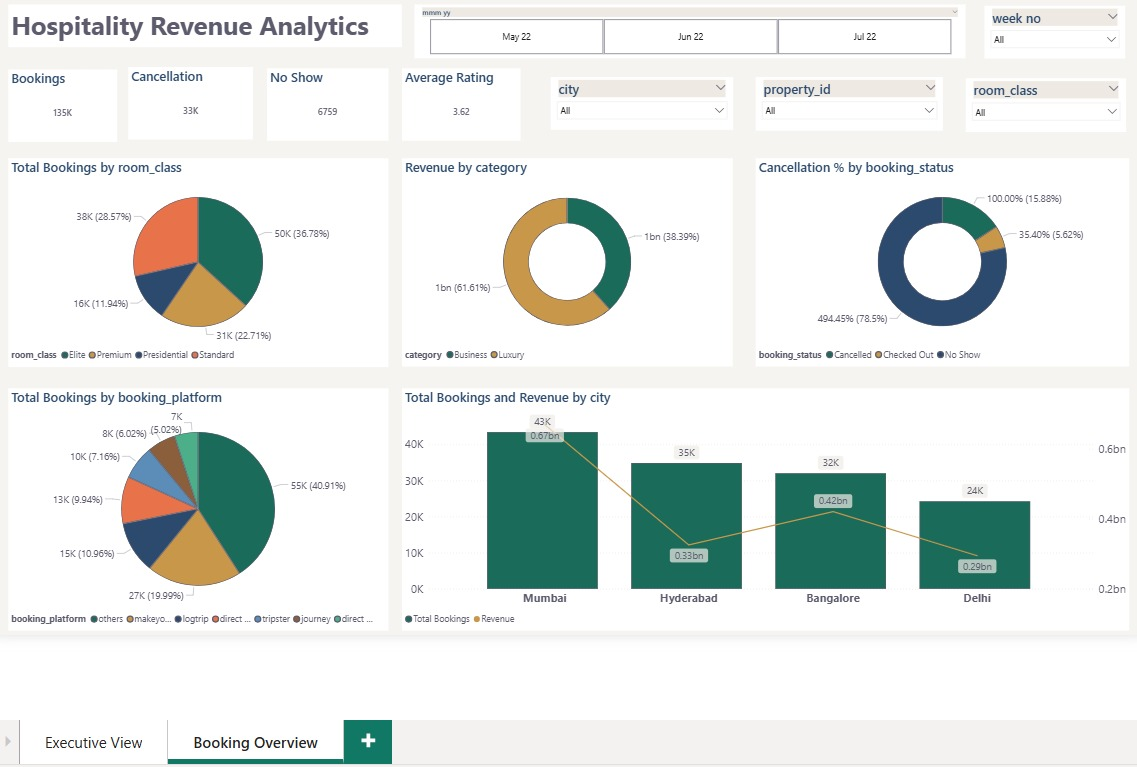

The page's visual inventory and layout, read from the dashboard file:
{"tool":"powerbi","page":{"name":"Booking Overview","canvas":[1920,1080],"ordinal":1},"visuals":[{"type":"card","title":"Bookings","fields":{"Values":["key_measures.Total Bookings"]},"box":[26.5,136.7,181.6,120.4],"z":0},{"type":"card","title":"Average Rating","fields":{"Values":["key_measures.Average Rating"]},"box":[683.7,134.7,198,120.4],"z":1000},{"type":"card","title":"No Show","fields":{"Values":["key_measures.Total no show bookings"]},"box":[459.2,134.7,202,120.4],"z":2000},{"type":"card","title":"Cancellation","fields":{"Values":["key_measures.Total cancelled bookings"]},"box":[226.5,132.7,208.2,120.4],"z":3000},{"type":"slicer","fields":{"Values":["dim_date.mmm yy"]},"box":[704.2,29.2,918.8,89.6],"z":4000},{"type":"slicer","fields":{"Values":["dim_date.week no"]},"box":[1655.1,30.6,234.7,87.8],"z":5000},{"type":"slicer","fields":{"Values":["dim_hotels.city"]},"box":[930.6,151,304.1,87.8],"z":6000},{"type":"slicer","fields":{"Values":["dim_hotels.property_id"]},"box":[1273.5,151,312.2,89.8],"z":7000},{"type":"slicer","fields":{"Values":["dim_rooms.room_class"]},"box":[1622.4,153.1,267.3,89.8],"z":8000},{"type":"pieChart","fields":{"Series":["dim_rooms.room_class"],"Y":["key_measures.Total Bookings"]},"box":[26.5,285.7,606.1,346.9],"z":9000},{"type":"pieChart","fields":{"Y":["key_measures.Total Bookings"],"Category":["fact_bookings.booking_platform"]},"box":[26.5,669.4,606.1,404.1],"z":10000},{"type":"donutChart","fields":{"Series":["dim_hotels.category"],"Y":["key_measures.Revenue"]},"box":[683.7,285.7,551,346.9],"z":11000},{"type":"donutChart","fields":{"Series":["fact_bookings.booking_status"],"Y":["key_measures.Cancellation %"]},"box":[1273.5,285.7,622.4,346.9],"z":12000},{"type":"lineStackedColumnComboChart","fields":{"Y":["key_measures.Total Bookings"],"Category":["dim_hotels.city"],"Y2":["key_measures.Revenue"]},"box":[683.7,669.4,1212.2,404.1],"z":13000},{"type":"textbox","box":[27.1,29.2,656.2,70.8],"z":14000}]}

Visuals, with their boxes on the page's 1920x1080 design canvas (x1, y1, x2, y2). These are canvas units, not pixel positions in the 1137x767 screenshot, which may show the page scaled, cropped or inside an application window:
"Bookings" card: BBox(26, 137, 208, 257)
"Average Rating" card: BBox(684, 135, 882, 255)
"No Show" card: BBox(459, 135, 661, 255)
"Cancellation" card: BBox(226, 133, 435, 253)
slicer - dim_date.mmm yy: BBox(704, 29, 1623, 119)
slicer - dim_date.week no: BBox(1655, 31, 1890, 118)
slicer - dim_hotels.city: BBox(931, 151, 1235, 239)
slicer - dim_hotels.property_id: BBox(1274, 151, 1586, 241)
slicer - dim_rooms.room_class: BBox(1622, 153, 1890, 243)
pieChart - dim_rooms.room_class x key_measures.Total Bookings: BBox(26, 286, 633, 633)
pieChart - key_measures.Total Bookings x fact_bookings.booking_platform: BBox(26, 669, 633, 1074)
donutChart - dim_hotels.category x key_measures.Revenue: BBox(684, 286, 1235, 633)
donutChart - fact_bookings.booking_status x key_measures.Cancellation %: BBox(1274, 286, 1896, 633)
lineStackedColumnComboChart - key_measures.Total Bookings x dim_hotels.city: BBox(684, 669, 1896, 1074)
textbox: BBox(27, 29, 683, 100)
